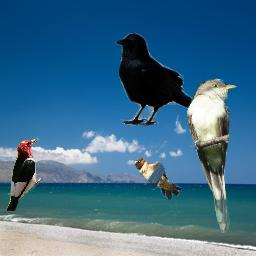Crow: (113, 32, 207, 126)
Cuckoo: (187, 78, 237, 234)
Swallow: (133, 157, 182, 200)
Woodpecker: (5, 137, 41, 211)
